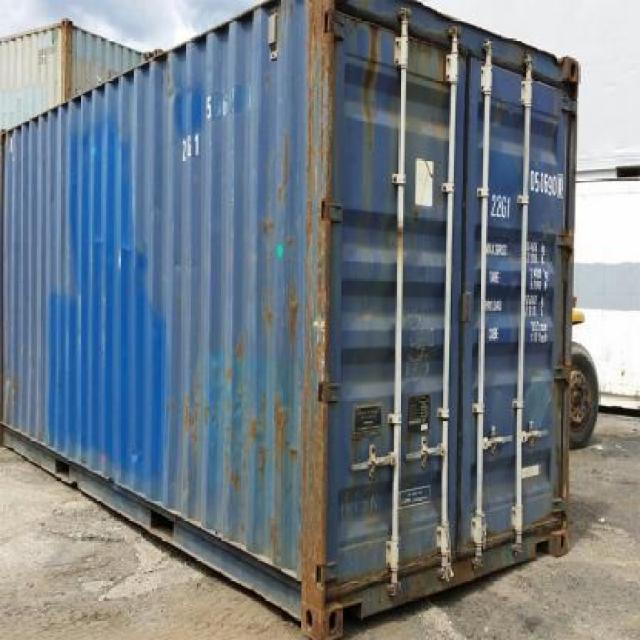rust: (307, 1, 335, 201), (303, 406, 328, 615), (321, 221, 332, 384), (364, 27, 380, 103), (287, 280, 301, 343), (275, 397, 289, 452), (192, 364, 200, 455), (280, 133, 289, 206), (246, 418, 260, 444), (183, 397, 192, 437), (238, 331, 244, 369), (260, 447, 268, 475), (232, 467, 240, 492), (226, 452, 231, 483)
